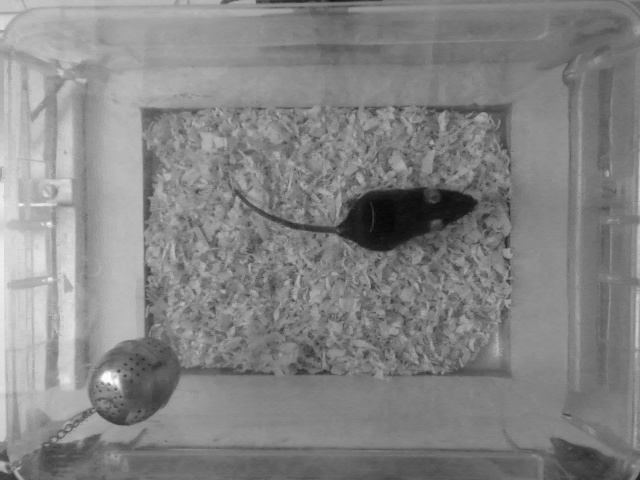mice: (230, 183, 488, 253)
